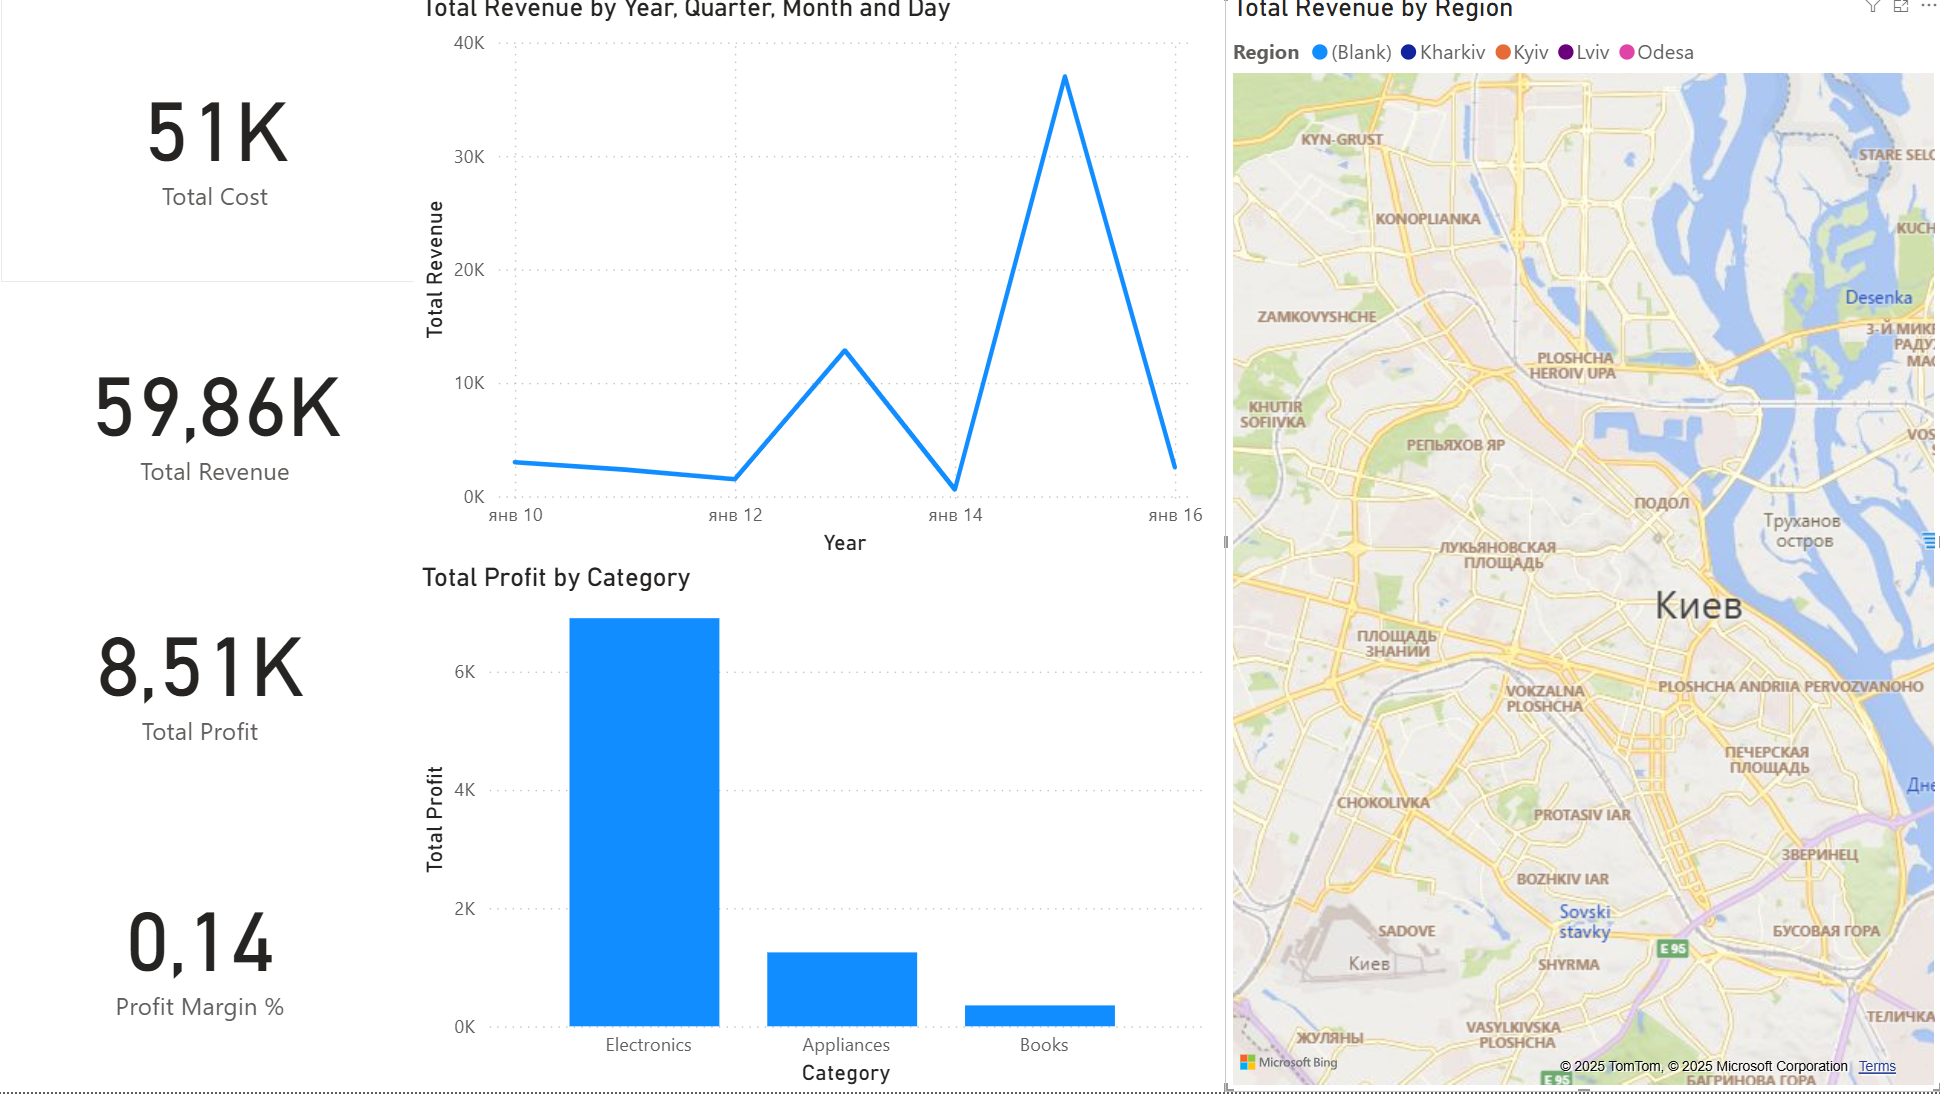

Layout of this report page (visuals, bound fields, positions):
{"tool":"powerbi","page":{"name":"Page 1","canvas":[1280,720],"ordinal":0},"visuals":[{"type":"card","fields":{"Values":["_Measures.Total Cost"]},"box":[9.8,0,280.1,189.8],"z":0},{"type":"card","fields":{"Values":["_Measures.Total Revenue"]},"box":[9.8,189.8,280.1,170.1],"z":1000},{"type":"card","fields":{"Values":["_Measures.Total Profit"]},"box":[0,359.9,280.1,170.1],"z":2000},{"type":"card","fields":{"Values":["_Measures.Profit Margin %"]},"box":[0,530.1,280.1,189.8],"z":3000},{"type":"lineChart","fields":{"Y":["_Measures.Total Revenue"],"Category":["fact_Sales_dirty.OrderDate.Variation.Date Hierarchy.Year","fact_Sales_dirty.OrderDate.Variation.Date Hierarchy.Quarter","fact_Sales_dirty.OrderDate.Variation.Date Hierarchy.Month","fact_Sales_dirty.OrderDate.Variation.Date Hierarchy.Day"]},"box":[280.1,0,520.9,373],"z":4000},{"type":"columnChart","fields":{"Y":["_Measures.Total Profit"],"Category":["dim_Products.Category"]},"box":[280.1,373,520.9,346.8],"z":5000},{"type":"map","fields":{"Size":["_Measures.Total Revenue"],"Series":["dim_Customers (2).Region"]},"box":[810.8,0,469.2,719.8],"z":6000}]}

Visuals, with their boxes in screenshot pixels (x1, y1, x2, y2), scaled from the page's 1280x720 canvas onto the 1940x1096 screenshot:
card - _Measures.Total Cost: BBox(15, 0, 439, 289)
card - _Measures.Total Revenue: BBox(15, 289, 439, 548)
card - _Measures.Total Profit: BBox(0, 548, 425, 807)
card - _Measures.Profit Margin %: BBox(0, 807, 425, 1095)
lineChart - _Measures.Total Revenue x fact_Sales_dirty.OrderDate.Variation.Date Hierarchy.Year: BBox(425, 0, 1214, 568)
columnChart - _Measures.Total Profit x dim_Products.Category: BBox(425, 568, 1214, 1095)
map - _Measures.Total Revenue x dim_Customers (2).Region: BBox(1229, 0, 1939, 1095)
